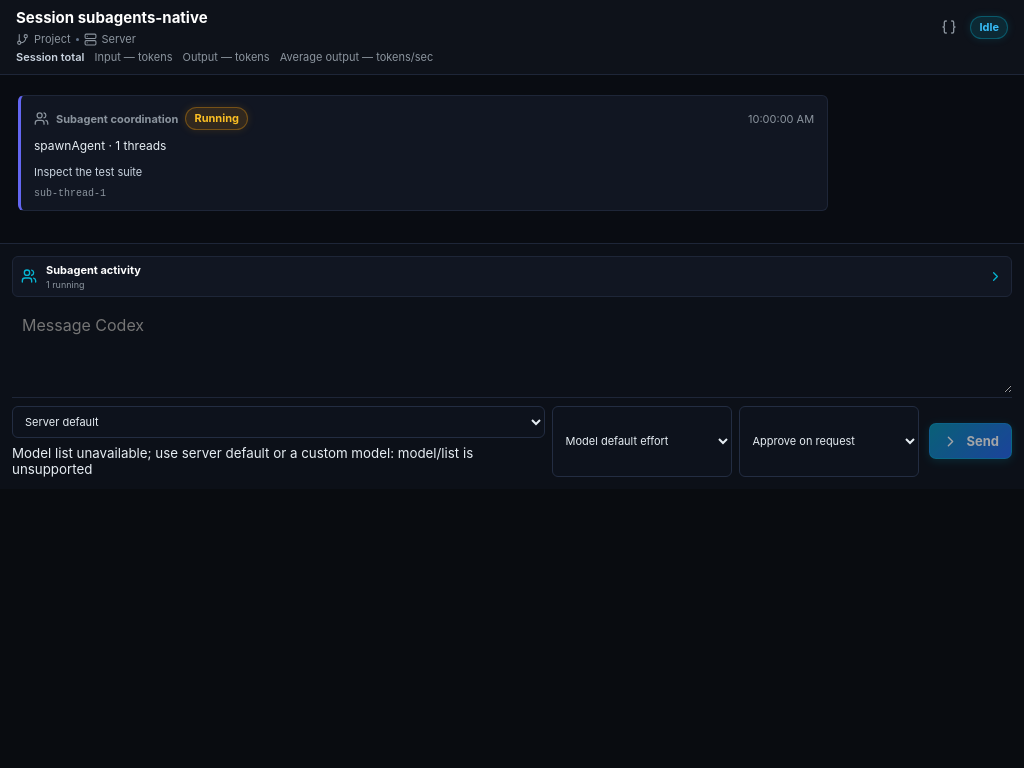
Test: shows subagent activity above the composer and in the subagent dialog
Step 1. Click the button with class "subagent-progress-row" → click(93, 270), box [12,256,1012,297]
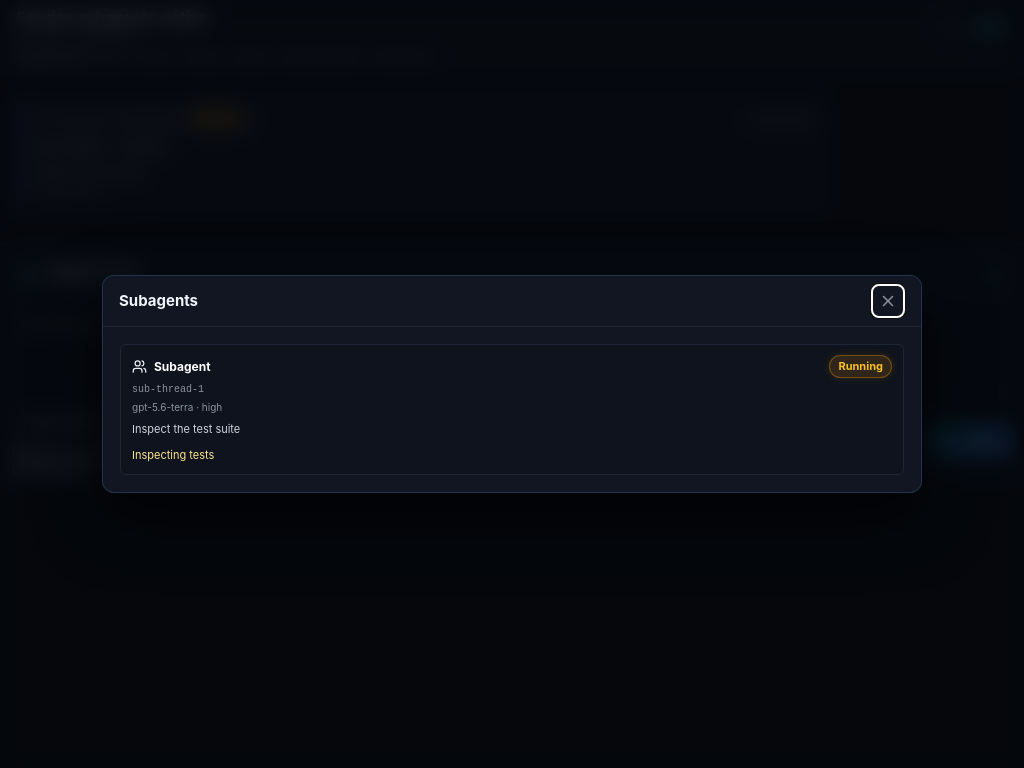
Check: the dialog "Subagents" shows "sub-thread-1", box [132,384,204,396]
Check: the text "Inspect the test suite" is shown, box [132,422,240,436]
